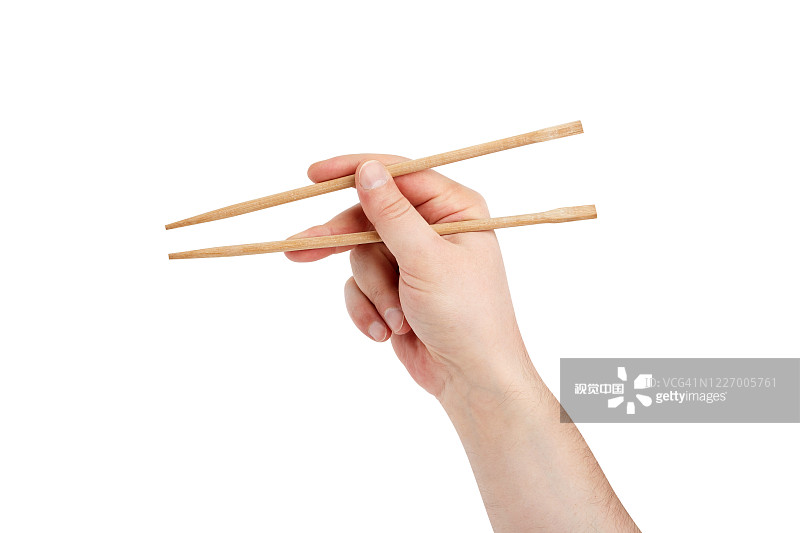no-phone: (247, 104, 552, 411)
